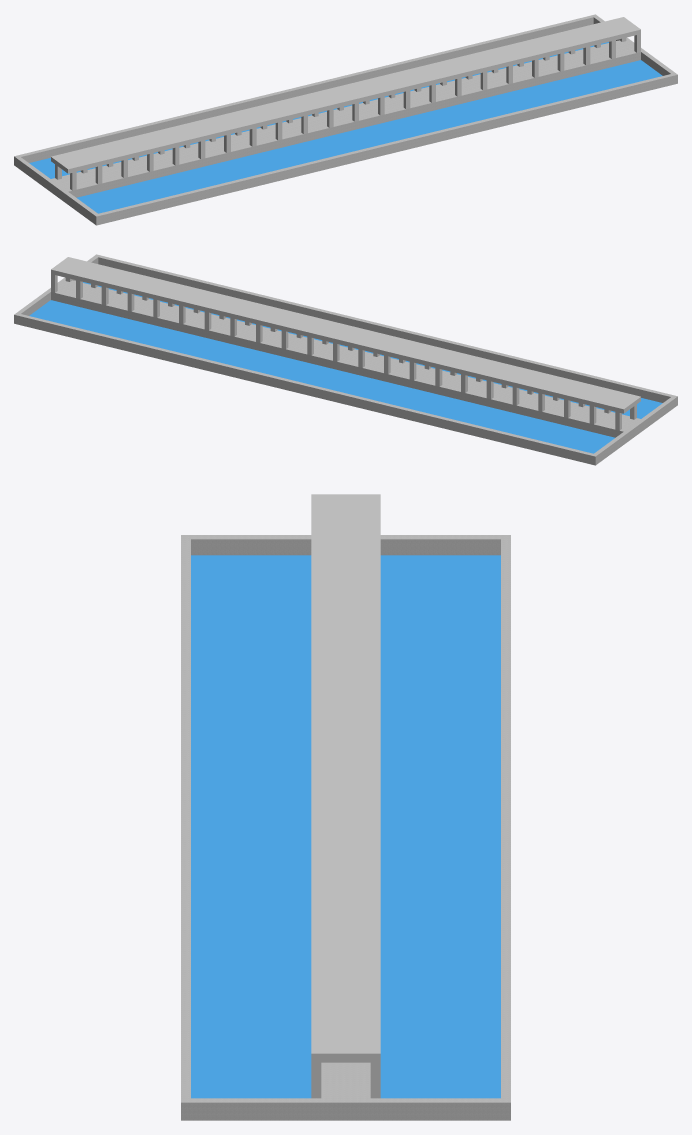
Rendered from B1B2_Sedimentation_Tanks.glb.
3 views of the same model, one above another, from view 1: azimuth 30°, elevation 25°; view 2: azimuth 150°, elevation 25°; view 3: azimuth 270°, elevation 25° (orthographic). The views are drawn at different scales.
Parts seen in each view (by area): view 1: Floor1; view 2: Floor1; view 3: Floor1.
Boxes of the visible parts, bbox=[...] form: Floor1: bbox=[14, 14, 677, 225]; Floor1: bbox=[14, 254, 677, 465]; Floor1: bbox=[181, 494, 510, 1120].
Size of the model in its own units: 136 by 7 by 33.34.
2 materials, 2 textured.
